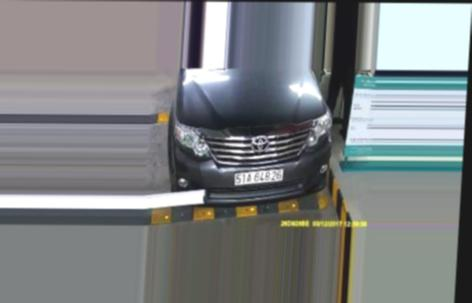License_Plate: (230, 168, 284, 186)
